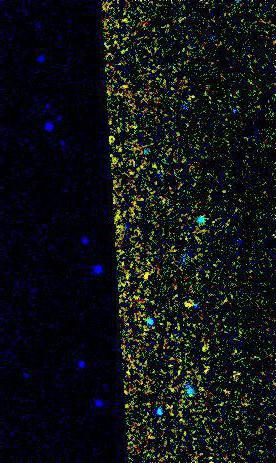star: (176, 288, 206, 318)
